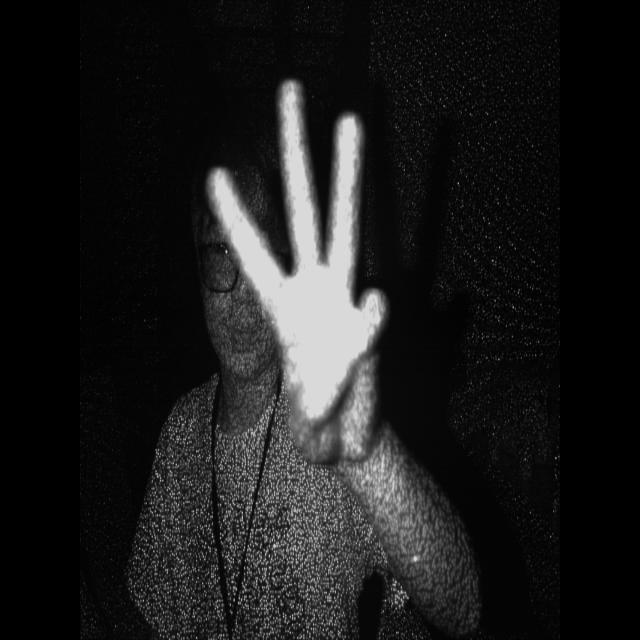W: (200, 57, 403, 459)
